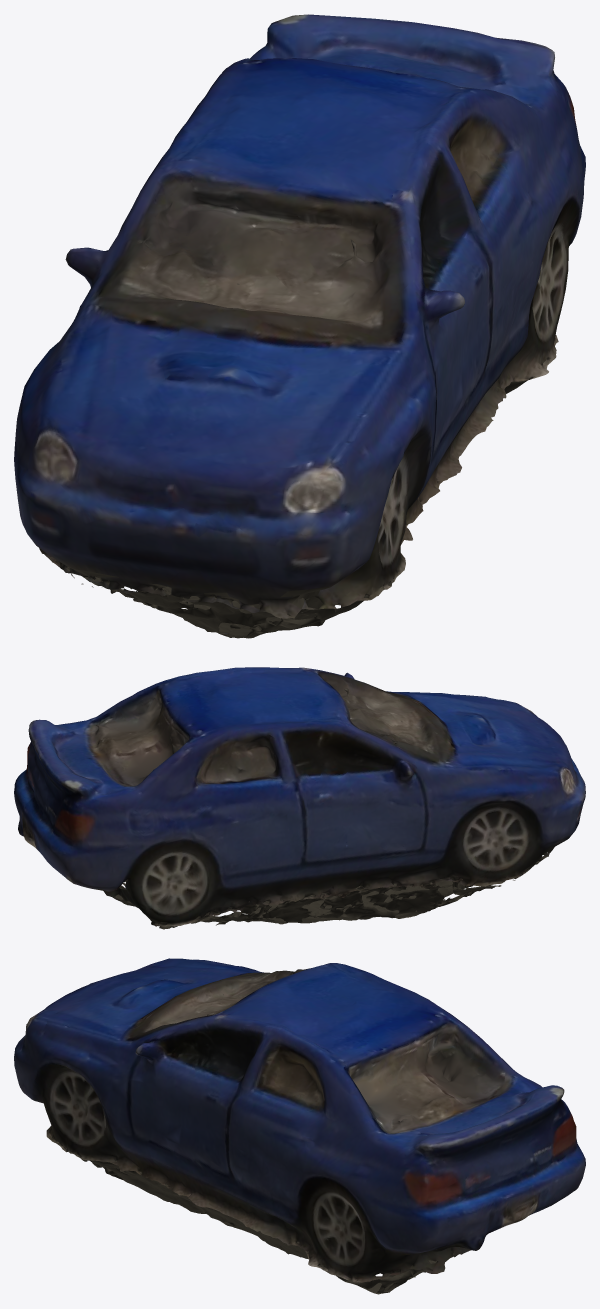
File: mesh_lowpoly.obj
The picture shows the model from 3 angles, top to bottom: view 1: azimuth 30°, elevation 25°; view 2: azimuth 150°, elevation 25°; view 3: azimuth 270°, elevation 25°; orthographic projection. The views are drawn at different scales.
Bounding box in the file's own units: 1.15 × 0.5804 × 1.15.
Materials: 4 (4 with a texture image).
